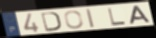4: (23, 12, 41, 34)
A: (129, 5, 153, 25)
D: (40, 11, 63, 32)
I: (85, 8, 97, 29)
L: (106, 7, 127, 26)
O: (64, 10, 85, 30)
